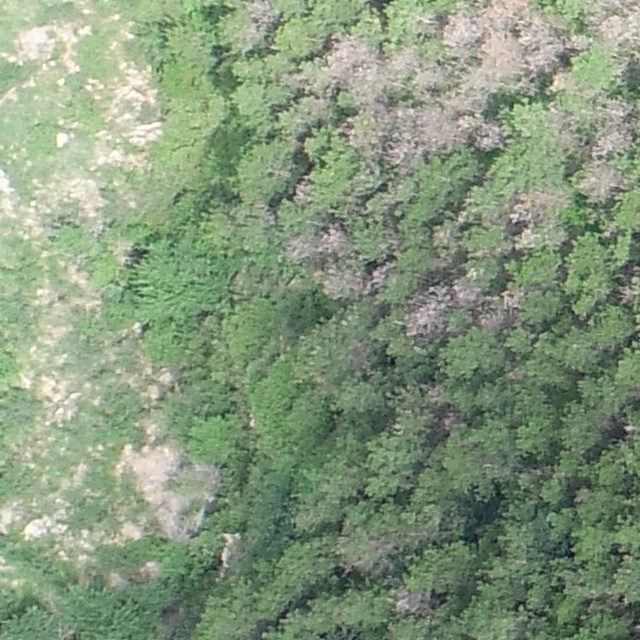unhealthy: (383, 106, 457, 169), (462, 29, 519, 96), (324, 32, 380, 88), (400, 284, 451, 340), (339, 531, 397, 576), (588, 101, 636, 154), (588, 1, 639, 48), (522, 23, 565, 75), (577, 160, 626, 203), (507, 188, 565, 224), (239, 0, 277, 42), (544, 103, 579, 148), (283, 229, 329, 263), (319, 265, 364, 299), (156, 500, 191, 543), (442, 11, 481, 49), (482, 0, 531, 28), (411, 58, 448, 94), (389, 590, 434, 618), (385, 45, 419, 76), (451, 280, 485, 310), (322, 224, 351, 259), (366, 260, 397, 291), (471, 124, 502, 150), (475, 308, 505, 331), (437, 409, 463, 431), (498, 289, 525, 309), (616, 284, 639, 307), (457, 113, 485, 130), (513, 230, 536, 250), (568, 33, 594, 50)
